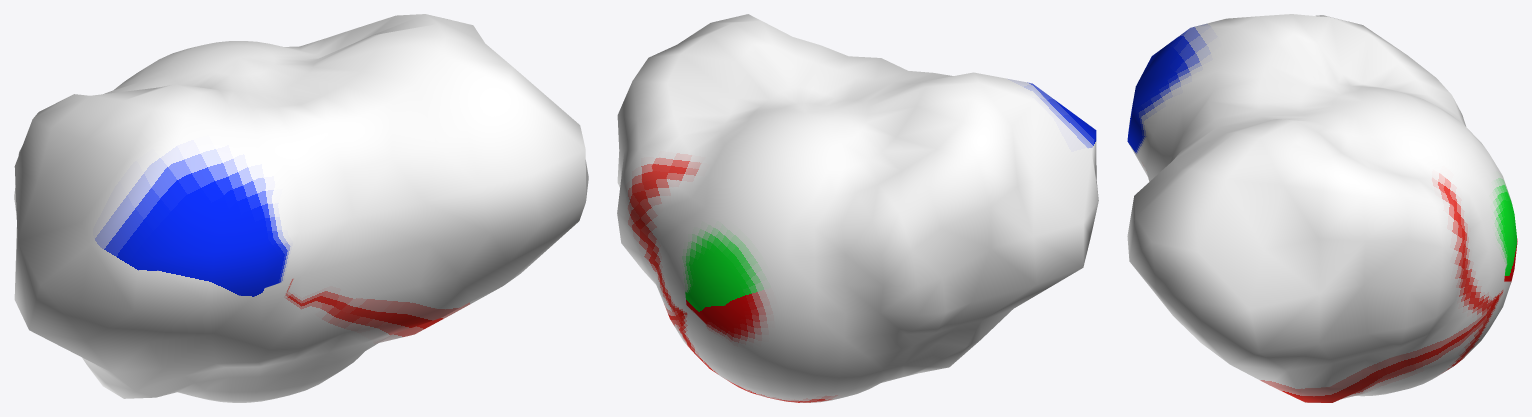
The model's file is Massinha Teste.obj.
3 views of the same model, side by side, from view 1: azimuth 30°, elevation 25°; view 2: azimuth 150°, elevation 25°; view 3: azimuth 270°, elevation 25° (orthographic). The views are drawn at different scales.
Parts seen in each view (by area): view 1: Sphere_Sphere.002; view 2: Sphere_Sphere.002; view 3: Sphere_Sphere.002.
Part boxes in pixels (left/top/right/bottom): Sphere_Sphere.002: left=14, top=14, right=588, bottom=402; Sphere_Sphere.002: left=617, top=14, right=1098, bottom=402; Sphere_Sphere.002: left=1127, top=14, right=1517, bottom=402.
Size of the model in its own units: 3.45 by 2.17 by 2.52.
Materials: 1 (1 with a texture image).
